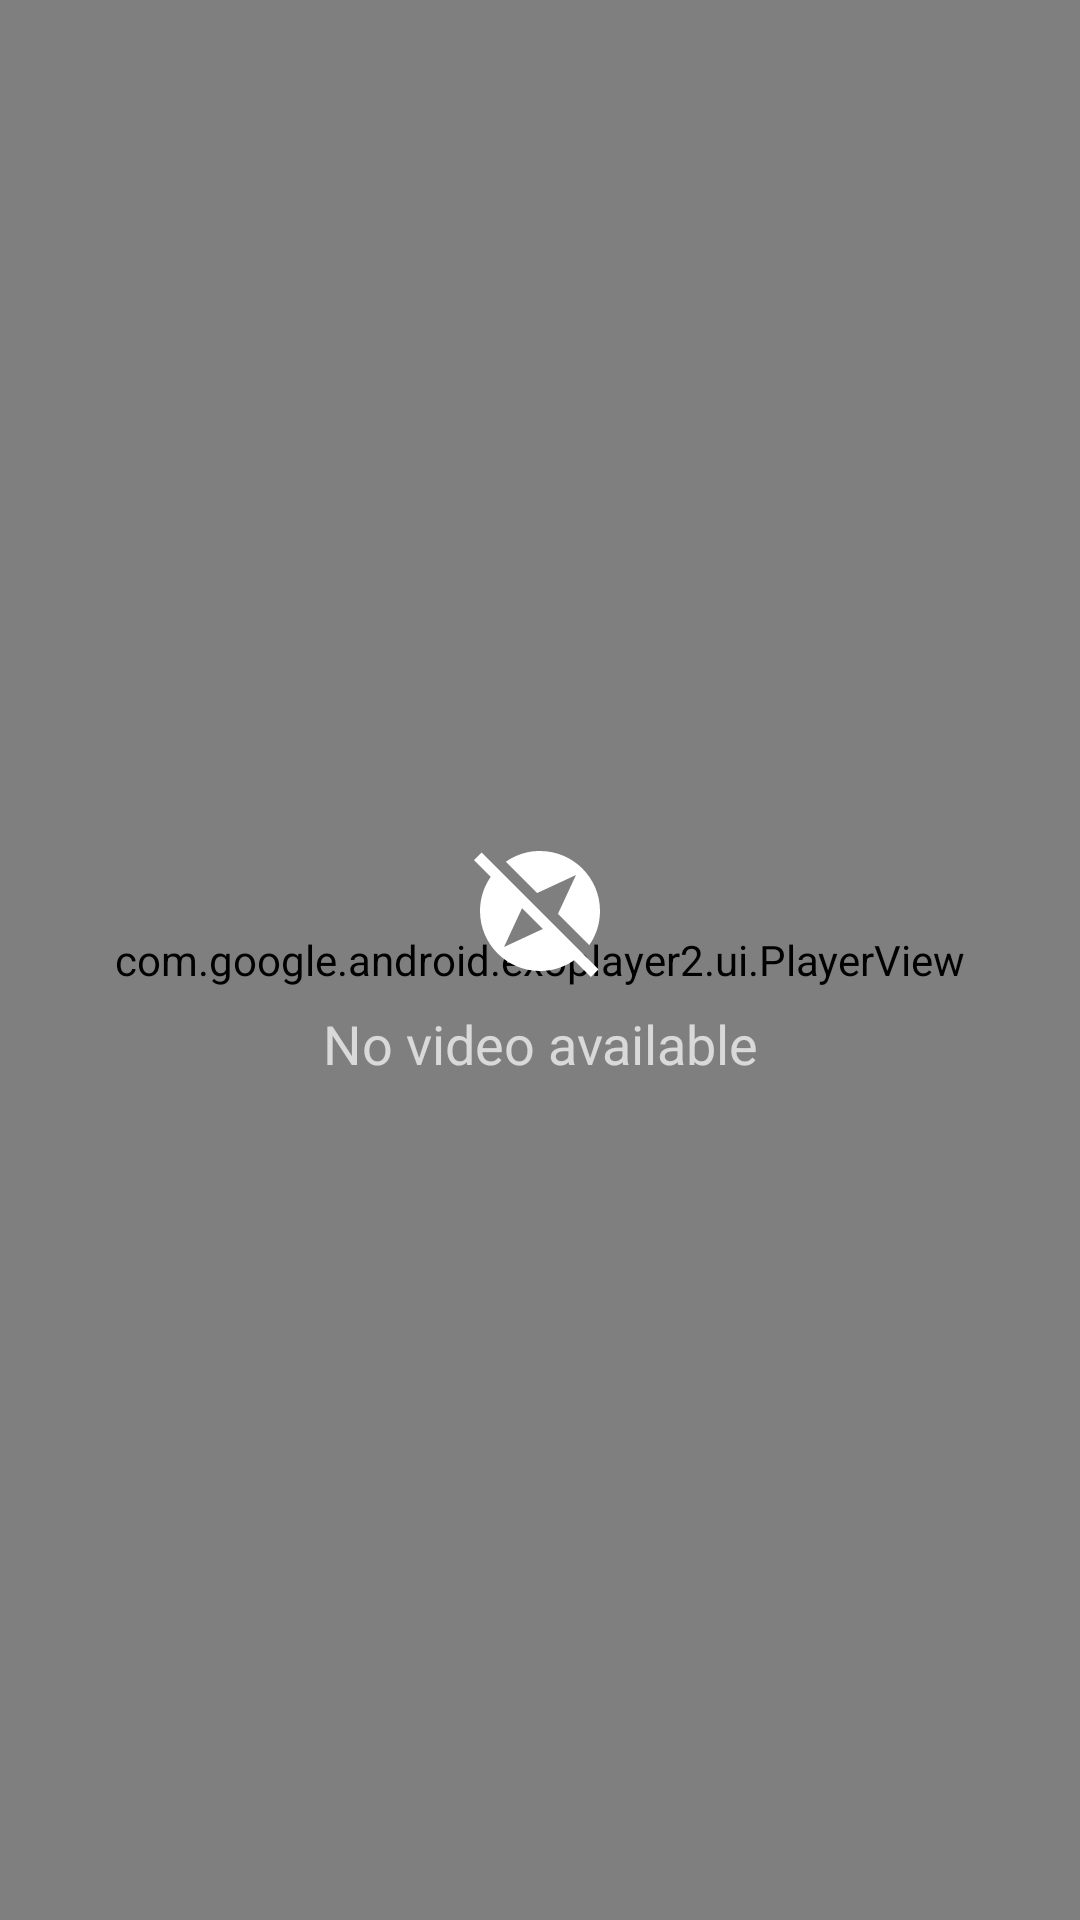

Locate icon controls on the screen. Image size 1080px x 1920px, boxes as [x1, y1, x2, y2].
explore off: [468, 851, 600, 983]
